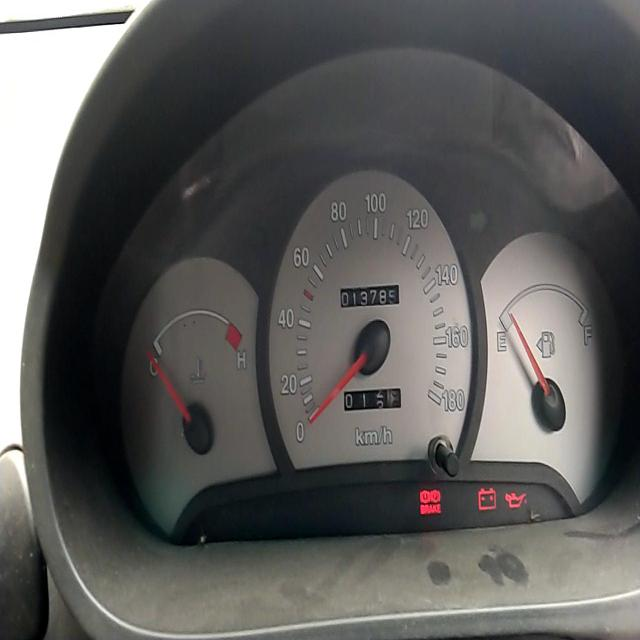odometer: (340, 282, 401, 308)
